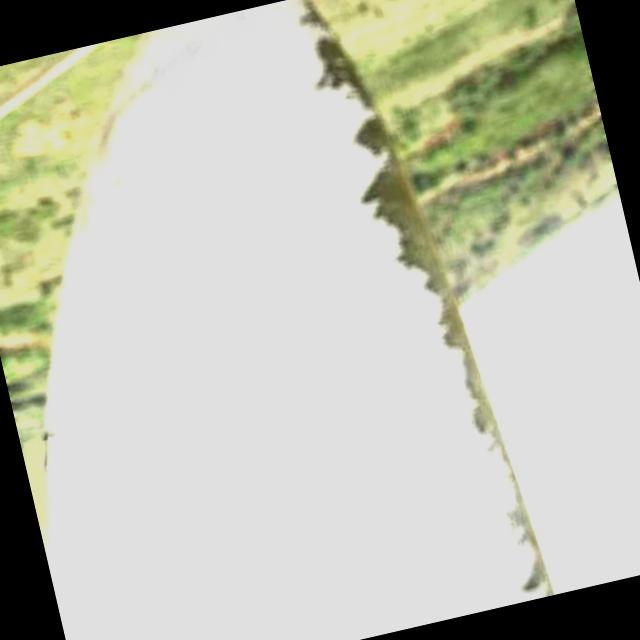corrosion: (301, 0, 437, 274)
surface_peeling: (419, 258, 562, 600)
